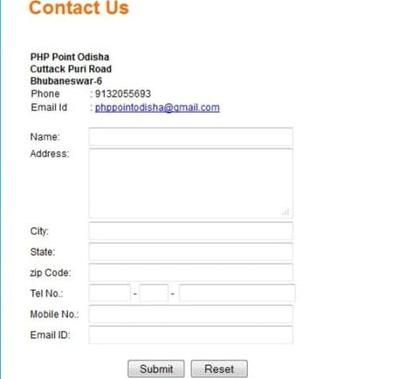button: (126, 359, 185, 379), (188, 359, 247, 379)
field: (85, 147, 294, 220), (84, 326, 299, 347), (84, 304, 297, 325), (85, 126, 294, 147), (86, 264, 297, 284), (86, 222, 296, 242), (85, 243, 295, 263), (178, 284, 296, 303), (87, 283, 132, 303), (137, 283, 169, 303)
field_with_label: (28, 146, 296, 222), (30, 241, 298, 266), (31, 124, 297, 149), (27, 262, 298, 286), (31, 325, 301, 349), (30, 303, 299, 327), (31, 221, 298, 245), (30, 283, 134, 305)
